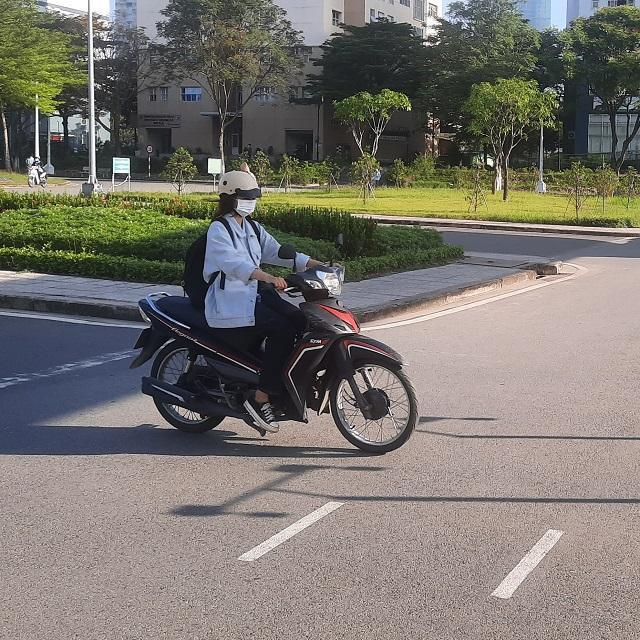Helmet: (215, 166, 262, 222)
